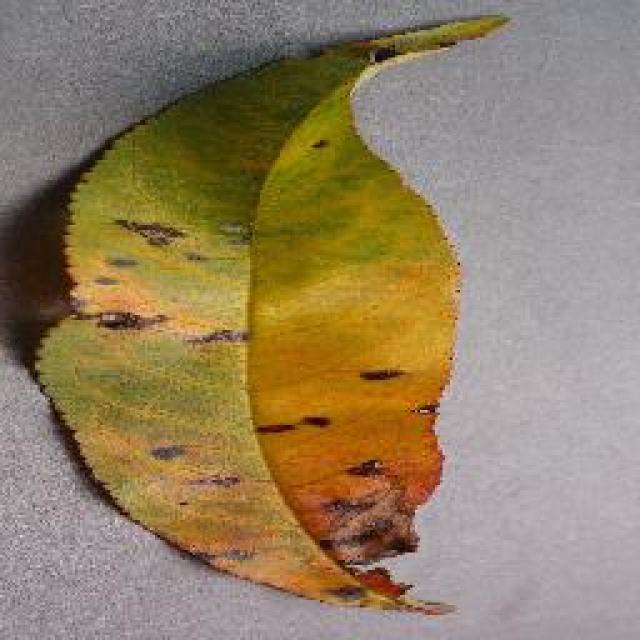Peach_Bacterial_Spot: (84, 162, 414, 560)
